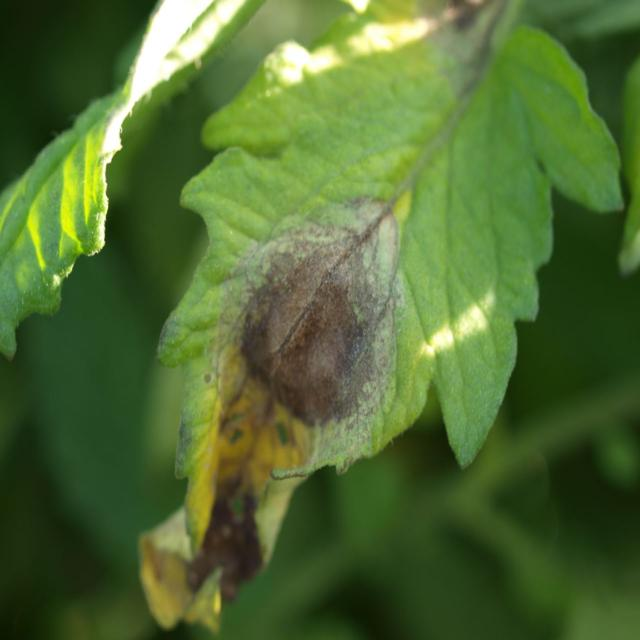Late_blight: (137, 193, 410, 636)
